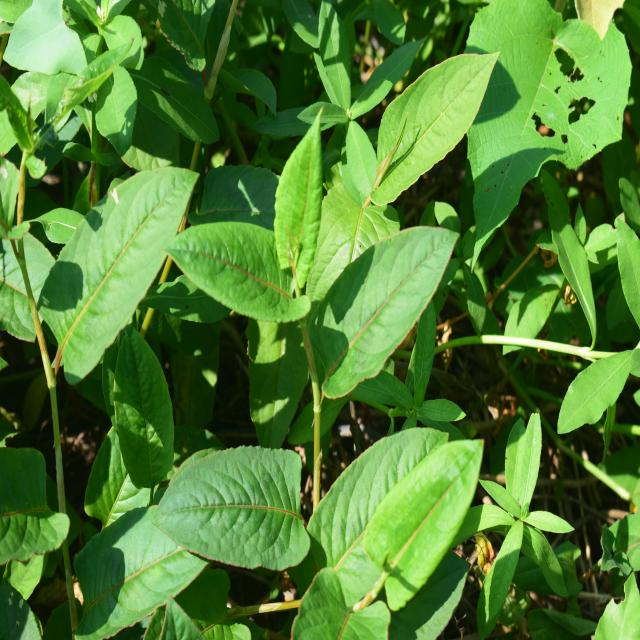Chinese_knotweed: (167, 139, 440, 458)
